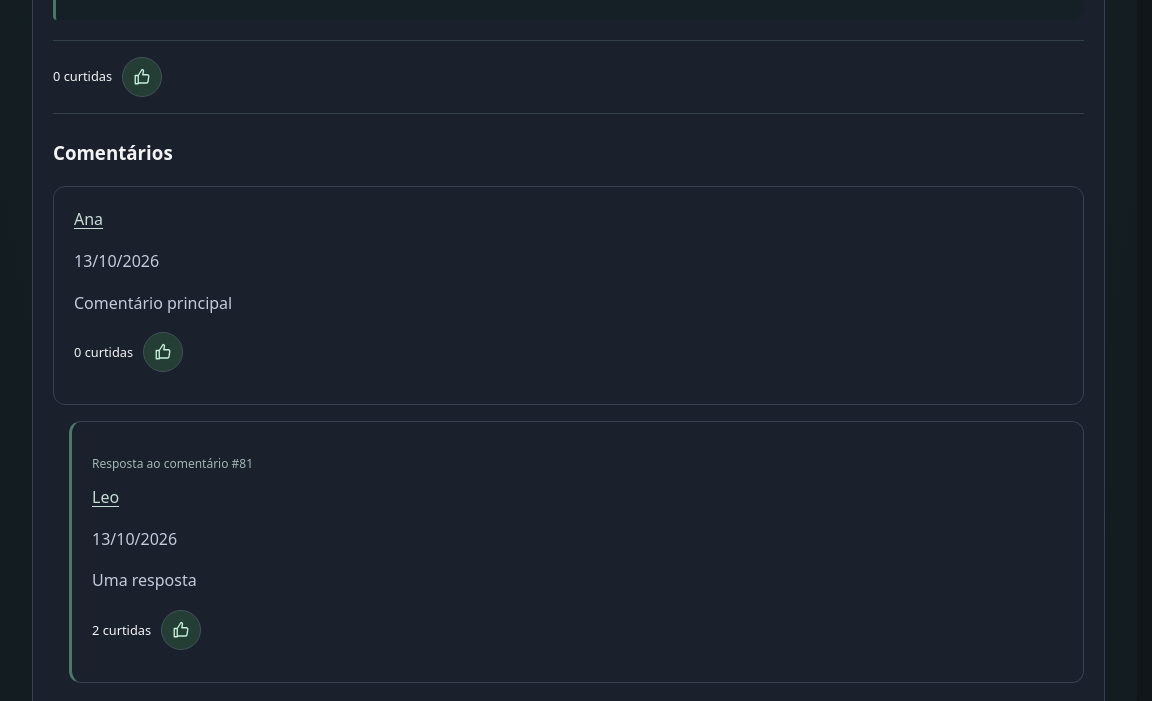
Test: curtir e retirar comentário de Ana usa Bearer sem corpo e confirma contagem pública
The image size is (1152, 701).
(page scrolled)
Expected: the text "Comentário principal" is shown, [74,292,232,314]
Expected: the icon below "Comentário principal" is shown, [154,343,172,361]
Click the button named "Curtir comentário de Ana" at (164, 352), box [144,332,184,372]
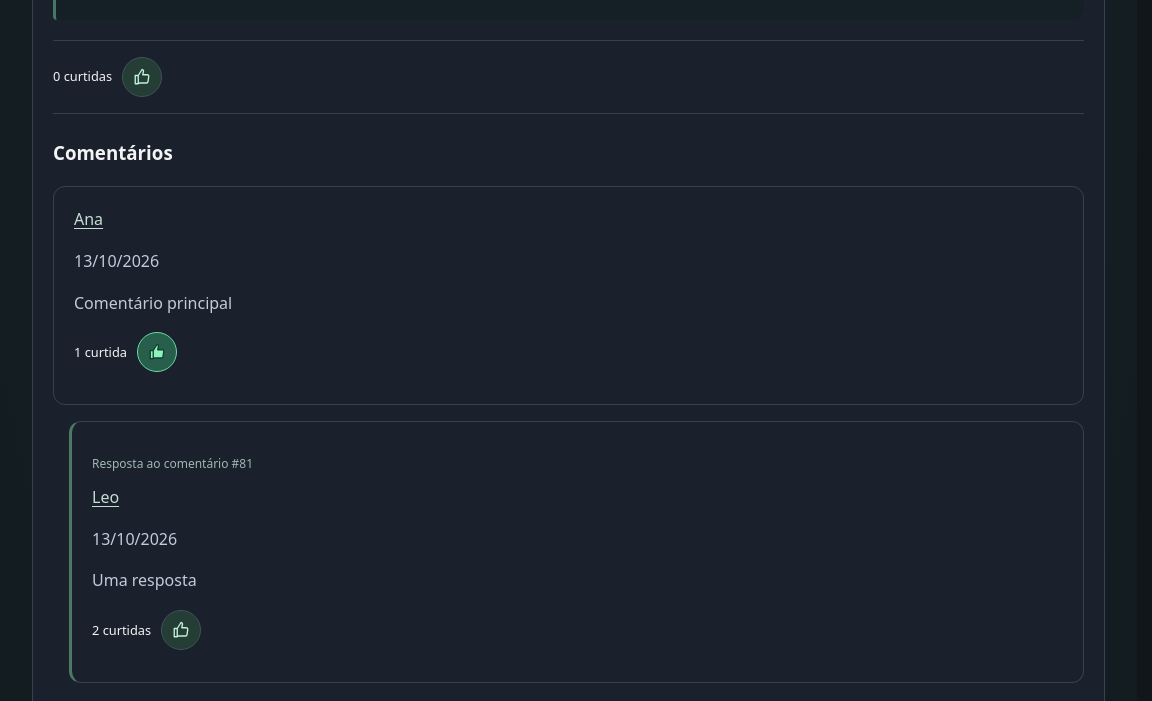
Now the text "1 curtida" is shown, box [74,342,127,362]
Click the button named "Retirar curtida do comentário de Ana" at (157, 352), box [137,332,177,372]
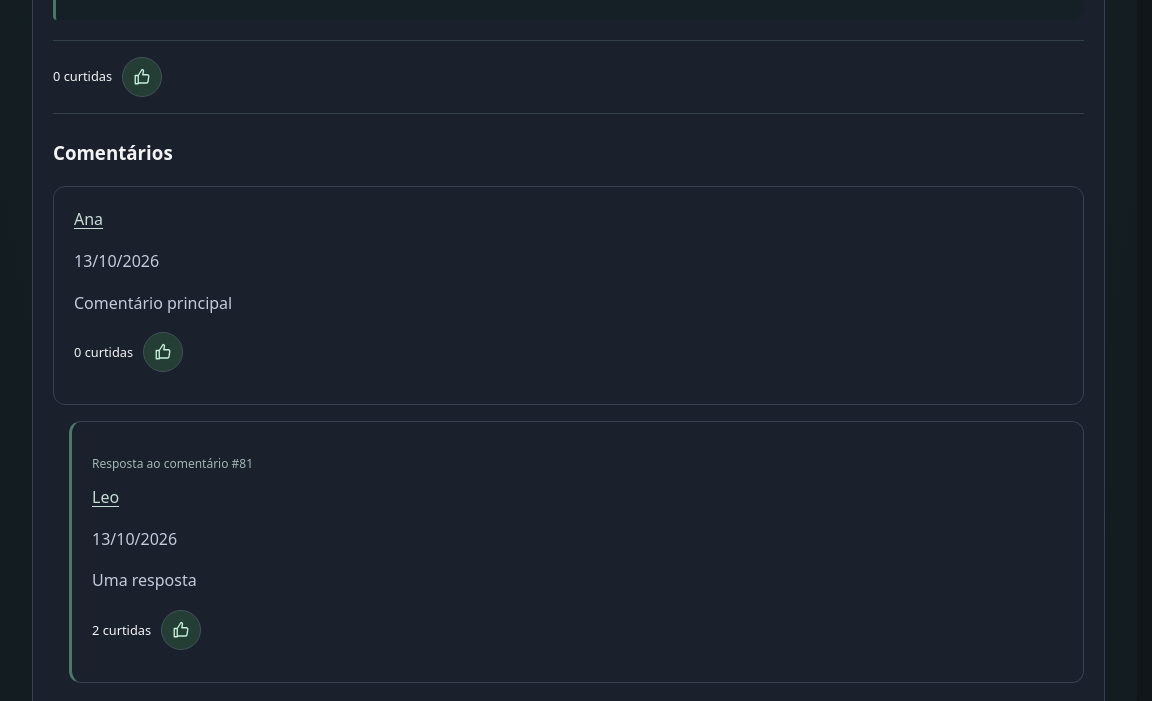
Now the button named "Curtir comentário de Ana" is shown, box [144,332,184,372]
Now the text "0 curtidas" below "Comentário principal" is shown, box [74,342,133,362]
